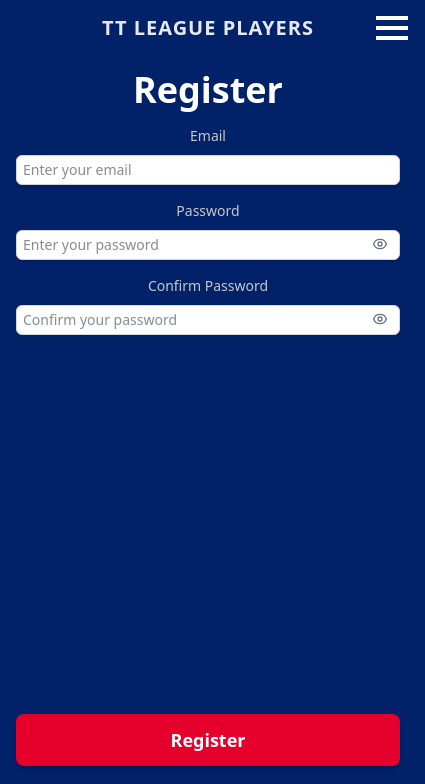
Test: Register page › without an invite, registers and asks to verify the email
The image size is (425, 784).
In the field labelled "Email": (208, 170) [16,155,400,185], type "a@b.com"
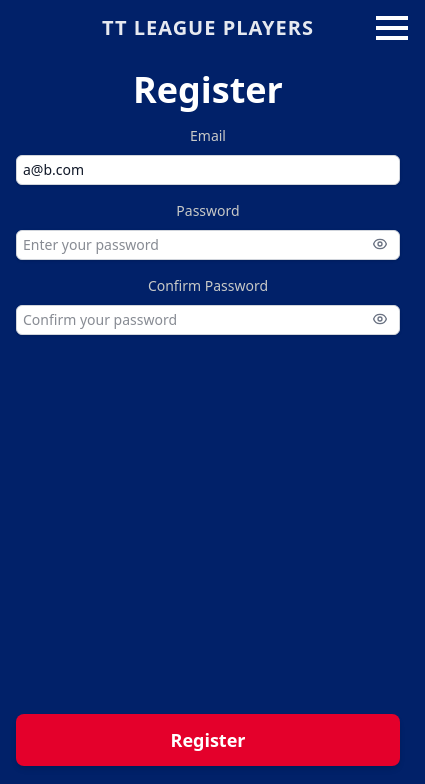
In the password field labelled "Password": (208, 245) [16,230,400,260], type "aA1!56789012"
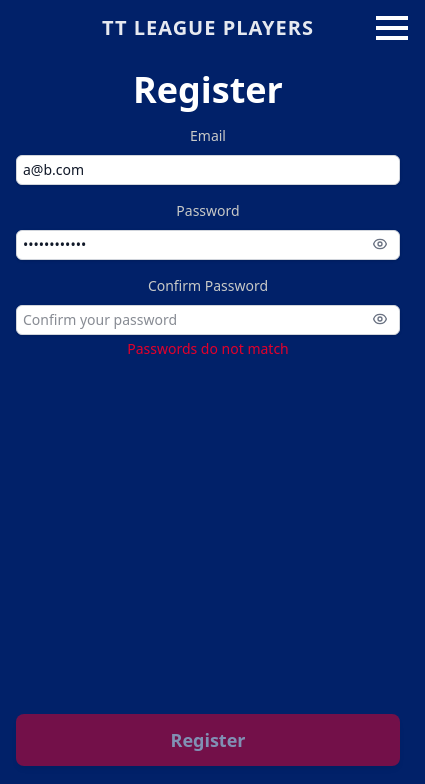
In the password field labelled "Confirm Password": (208, 320) [16,305,400,335], type "aA1!56789012"
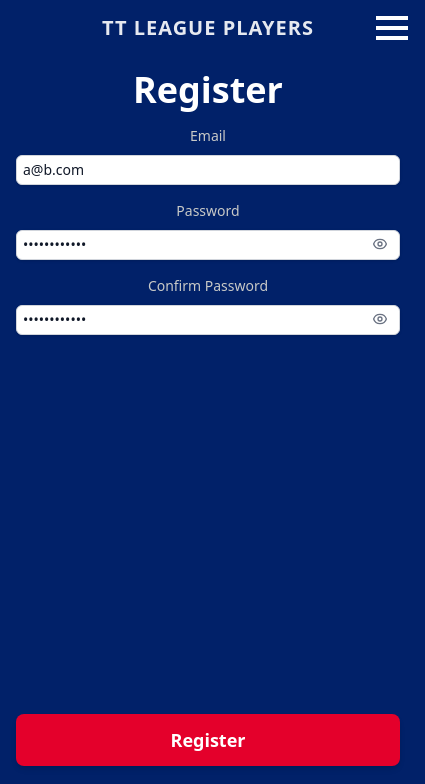
Click the button with test id "register-submit-button": click(208, 740) [16,714,400,766]
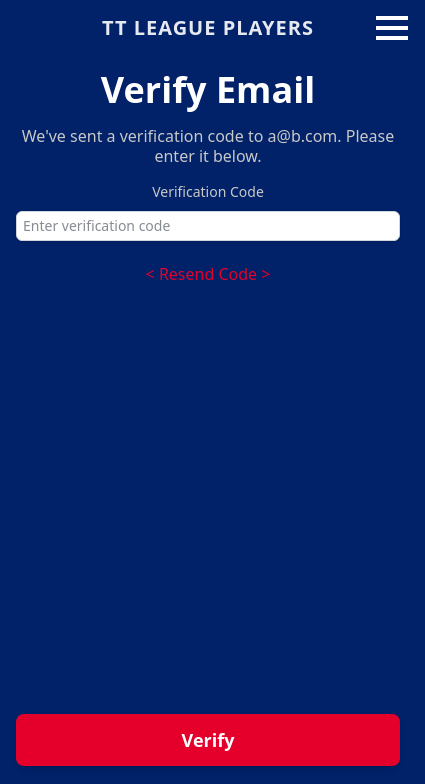
Expected: the text with test id "register-verify-success-message" reads "We've sent a verification code to a@b.com. Please enter it below.", [16,126,400,166]
